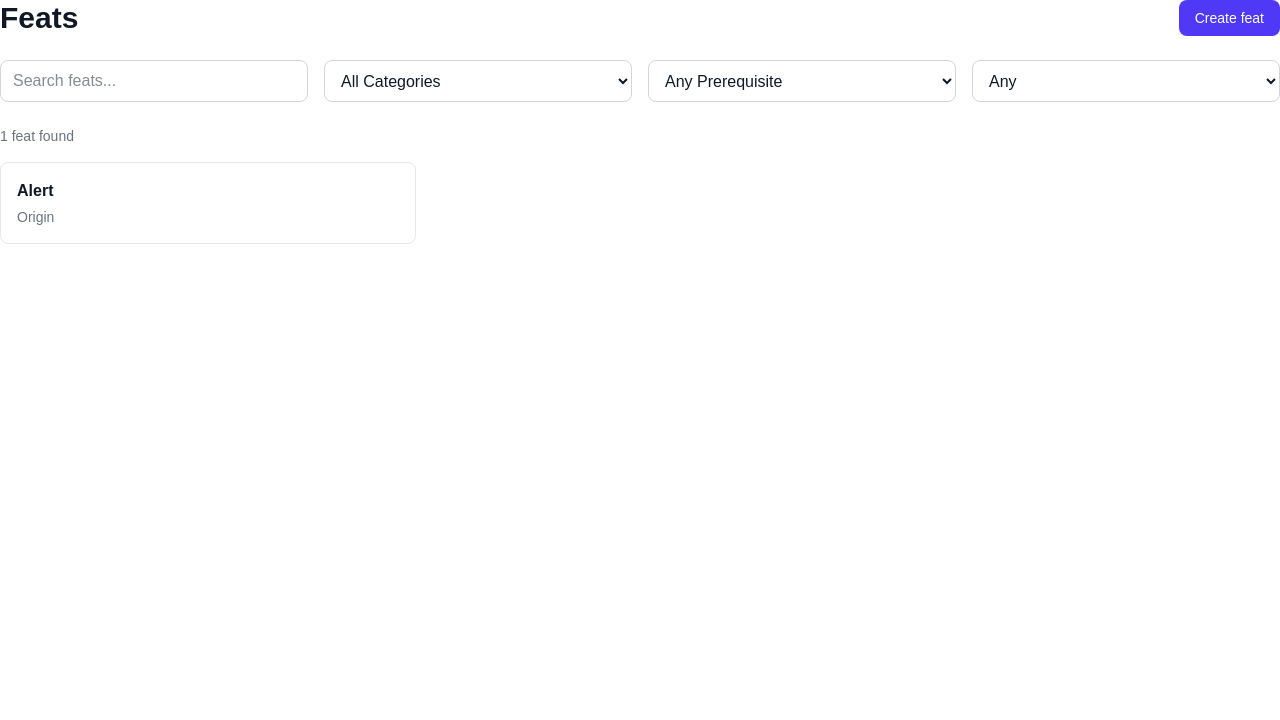
Test: FeatListPage › homebrew feats › lets an admin manage shared content
The width and height of the screenshot is (1280, 720).
Click the button "Alert Origin": (35, 190) [0,162,416,244]
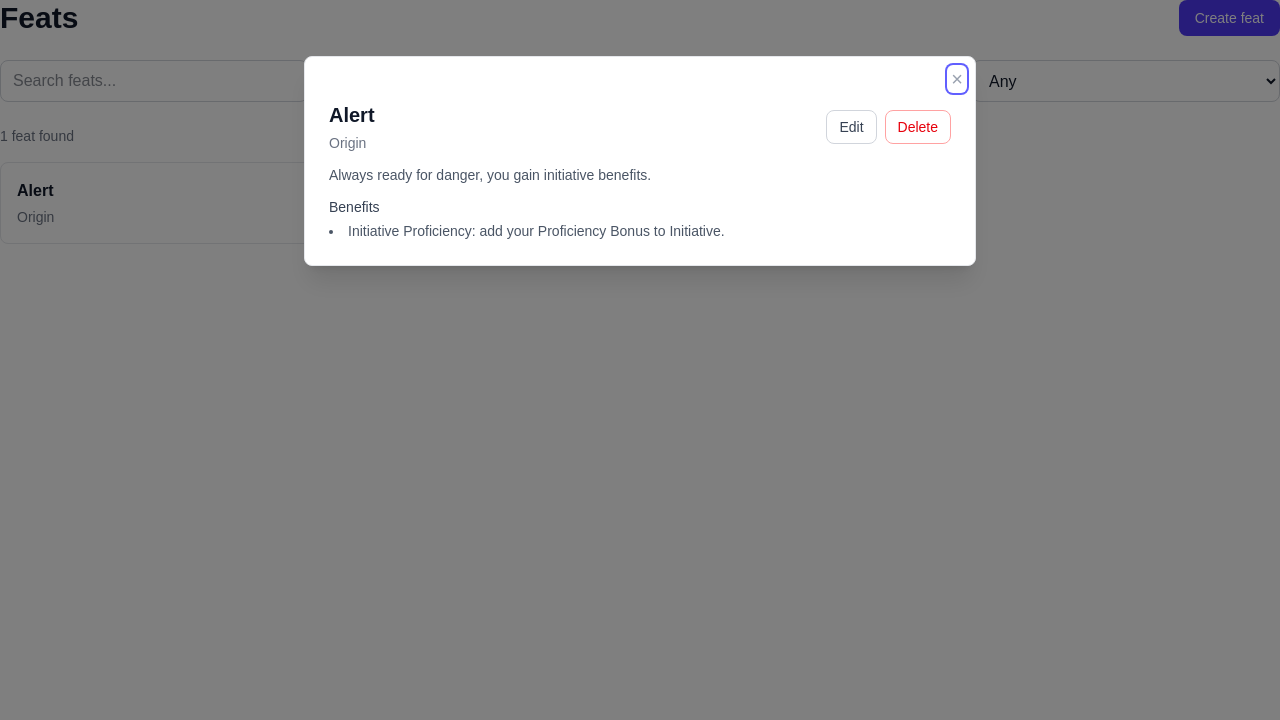
Now the button "Delete" is shown, box [884,110,951,144]
